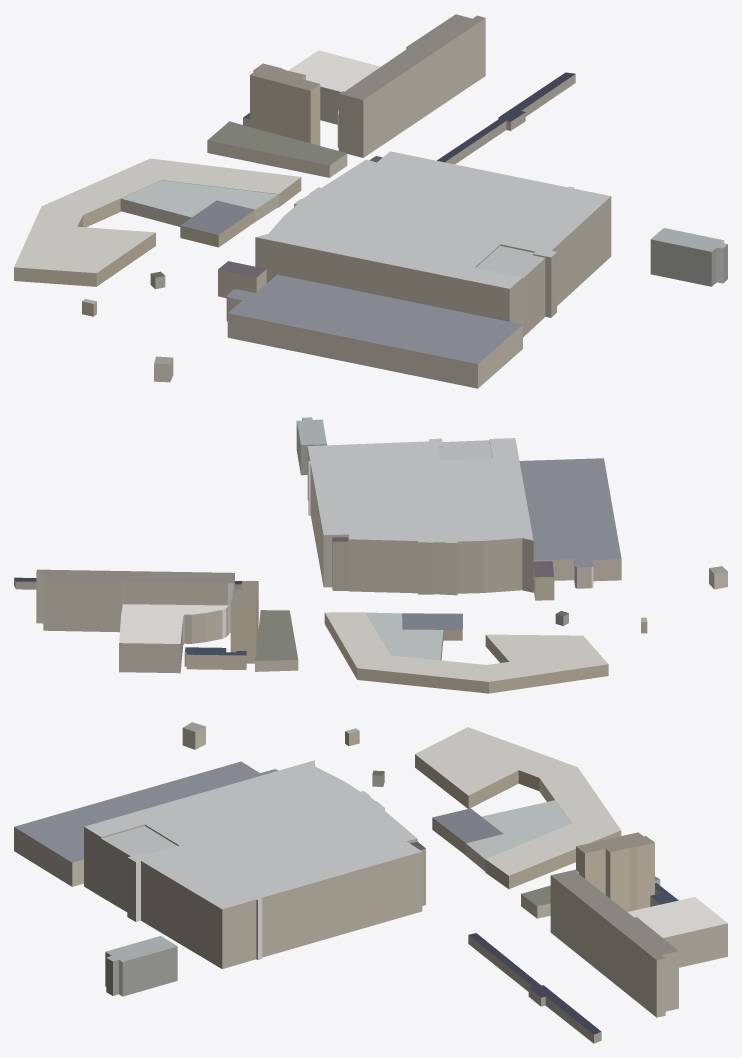
3 renders of one model, top to bottom at view 1: azimuth 30°, elevation 25°; view 2: azimuth 150°, elevation 25°; view 3: azimuth 270°, elevation 25°, orthographic. The views are drawn at different scales.
Visible parts, largest first — view 1: tuile; view 2: tuile; view 3: tuile.
Boxes of the visible parts, x1,y1,x2,y2 form: tuile: (14, 14, 727, 388); tuile: (14, 417, 727, 693); tuile: (14, 722, 727, 1043).
Bounding box in the file's own units: 288 × 30.91 × 288.
